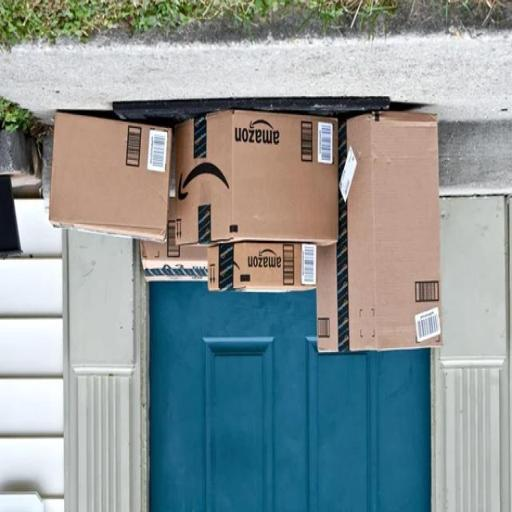Amazon: (321, 117, 448, 350), (173, 108, 336, 247), (48, 108, 173, 259), (208, 246, 315, 293), (136, 223, 211, 279)
